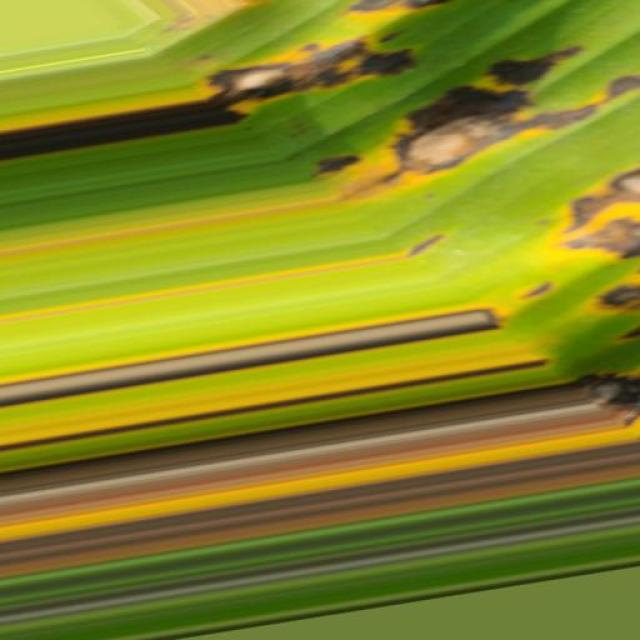Early_rust: (122, 0, 640, 461)
